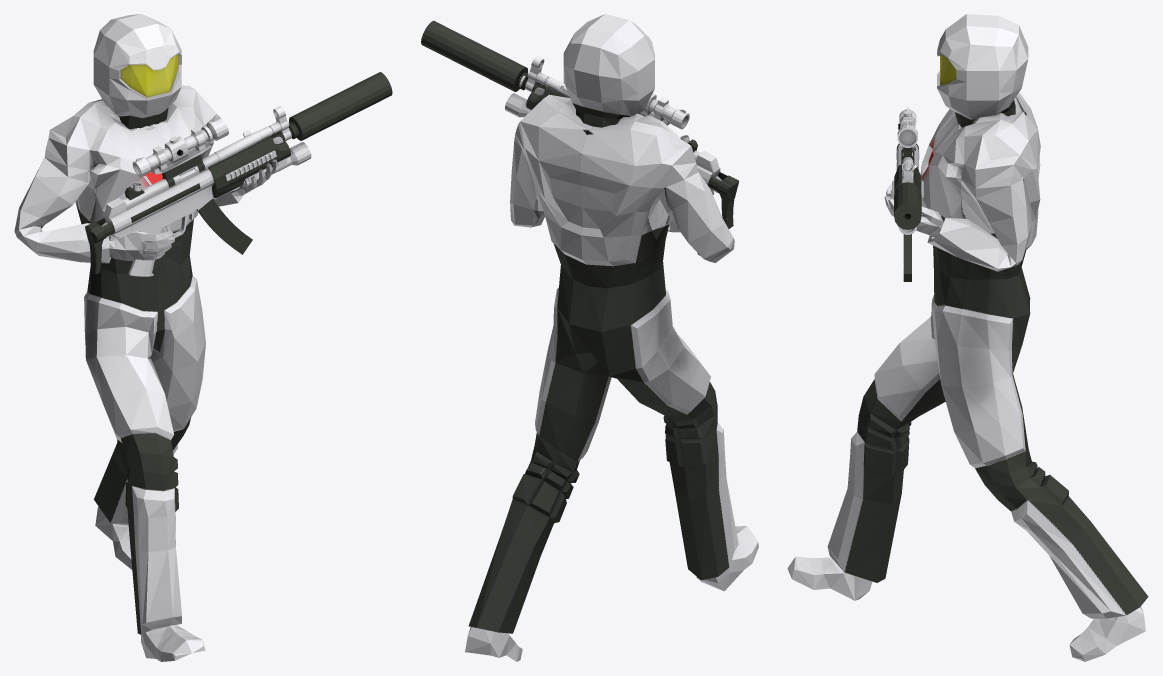
The model's file is walk5.obj.
3 renders of one model, left to right at view 1: azimuth 30°, elevation 25°; view 2: azimuth 150°, elevation 25°; view 3: azimuth 270°, elevation 25°, orthographic. The views are drawn at different scales.
Parts seen in each view (by area): view 1: Male001Skin_001, Object001; view 2: Male001Skin_001, Object001; view 3: Male001Skin_001, Object001.
Boxes of the visible parts, bbox=[...] form: Male001Skin_001: bbox=[14, 14, 277, 661]; Object001: bbox=[85, 72, 392, 276]; Male001Skin_001: bbox=[465, 14, 758, 661]; Object001: bbox=[421, 20, 738, 232]; Male001Skin_001: bbox=[787, 14, 1148, 661]; Object001: bbox=[892, 106, 923, 281].
Size of the model in its own units: 1111 by 1886 by 1013.
1 material, 1 textured.
